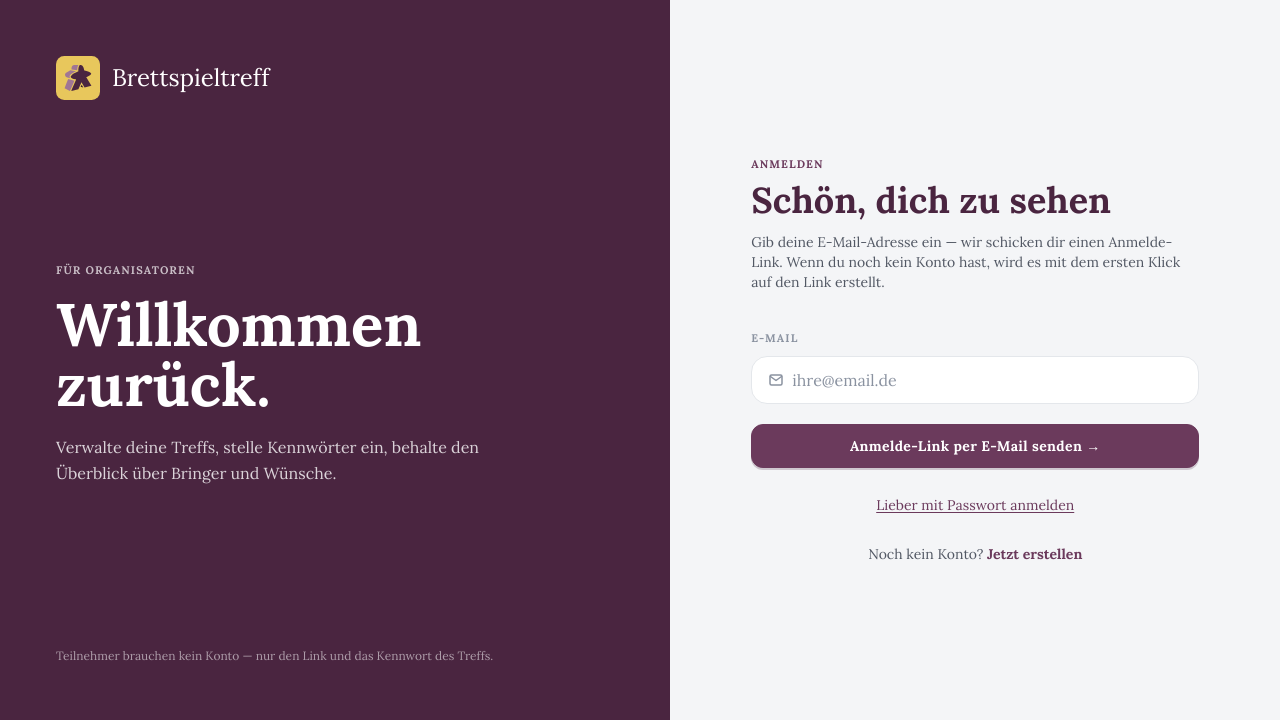
Test: LoginPage › reveals password login form when disclosure is clicked
The image size is (1280, 720).
Step 1. Click the button "Lieber mit Passwort anmelden" → (975, 505), box 876,495 -> 1074,515
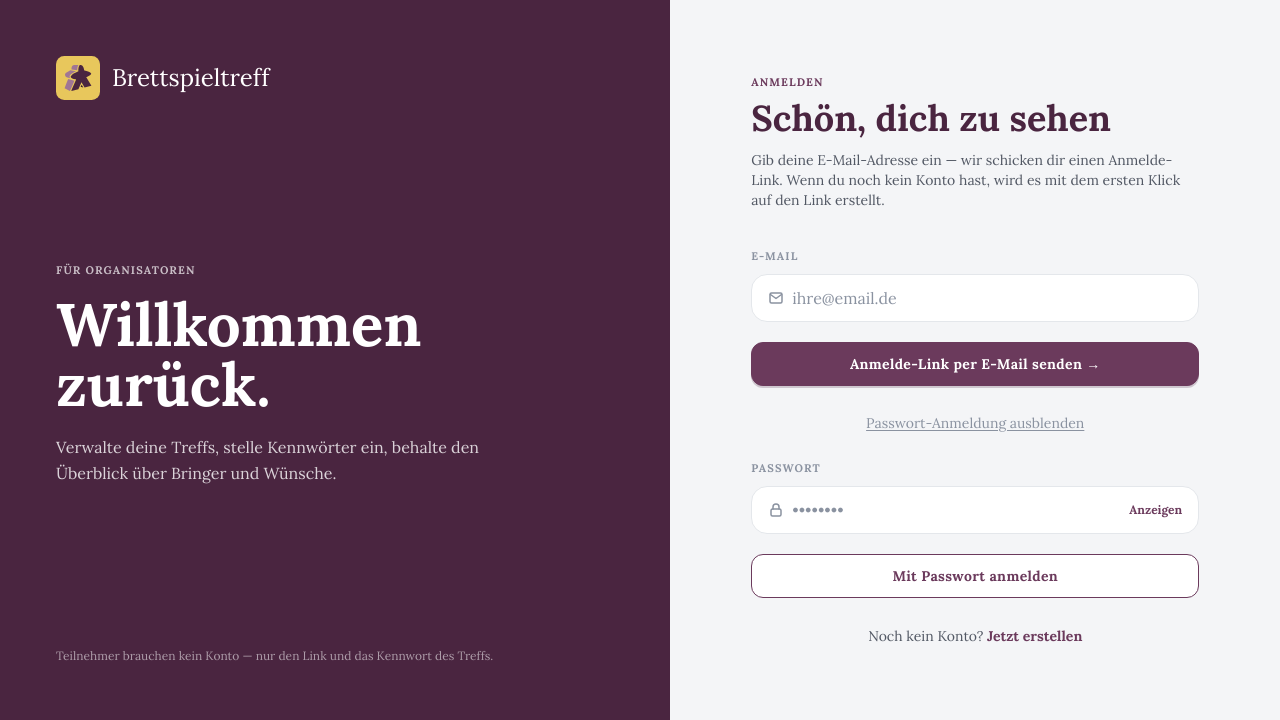
Check: the button "Mit Passwort anmelden" is shown, box 751,554 -> 1199,598
Check: the password field labelled "Passwort" is shown, box 792,498 -> 1121,522
